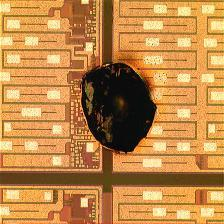PARTICLE: (76, 56, 160, 157)
